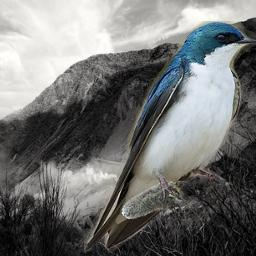Swallow: (84, 21, 256, 253)
